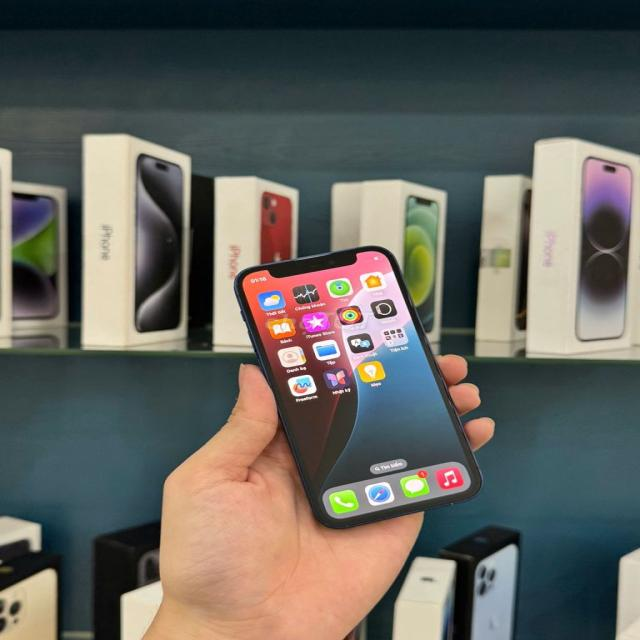gen_12_13: (235, 245, 485, 530)
